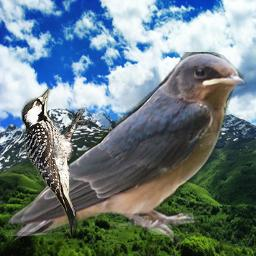Swallow: (6, 52, 247, 247)
Woodpecker: (21, 87, 90, 236)
